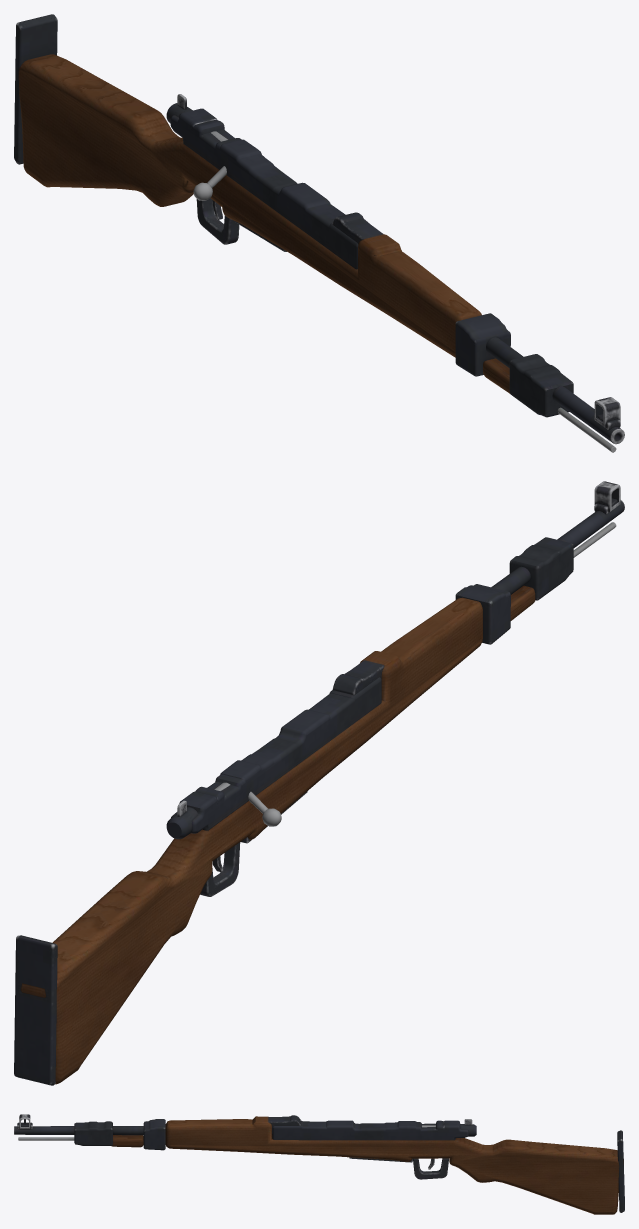
Rendered from sr_kar98k.glb.
3 renders of one model, top to bottom at view 1: azimuth 30°, elevation 25°; view 2: azimuth 150°, elevation 25°; view 3: azimuth 270°, elevation 25°, orthographic. The views are drawn at different scales.
Visible parts, largest first — view 1: body, bolt_mesh; view 2: body, bolt_mesh; view 3: body, bolt_mesh.
Part boxes in pixels (box(x1,y1,x2,y2)): body: box(14, 14, 624, 452); bolt_mesh: box(166, 94, 227, 200); body: box(14, 481, 624, 1085); bolt_mesh: box(166, 782, 281, 839); body: box(14, 1114, 624, 1214); bolt_mesh: box(422, 1119, 476, 1136).
Size of the model in its own units: 0.068 by 0.1914 by 1.11.
Materials: 1 (1 with a texture image).
